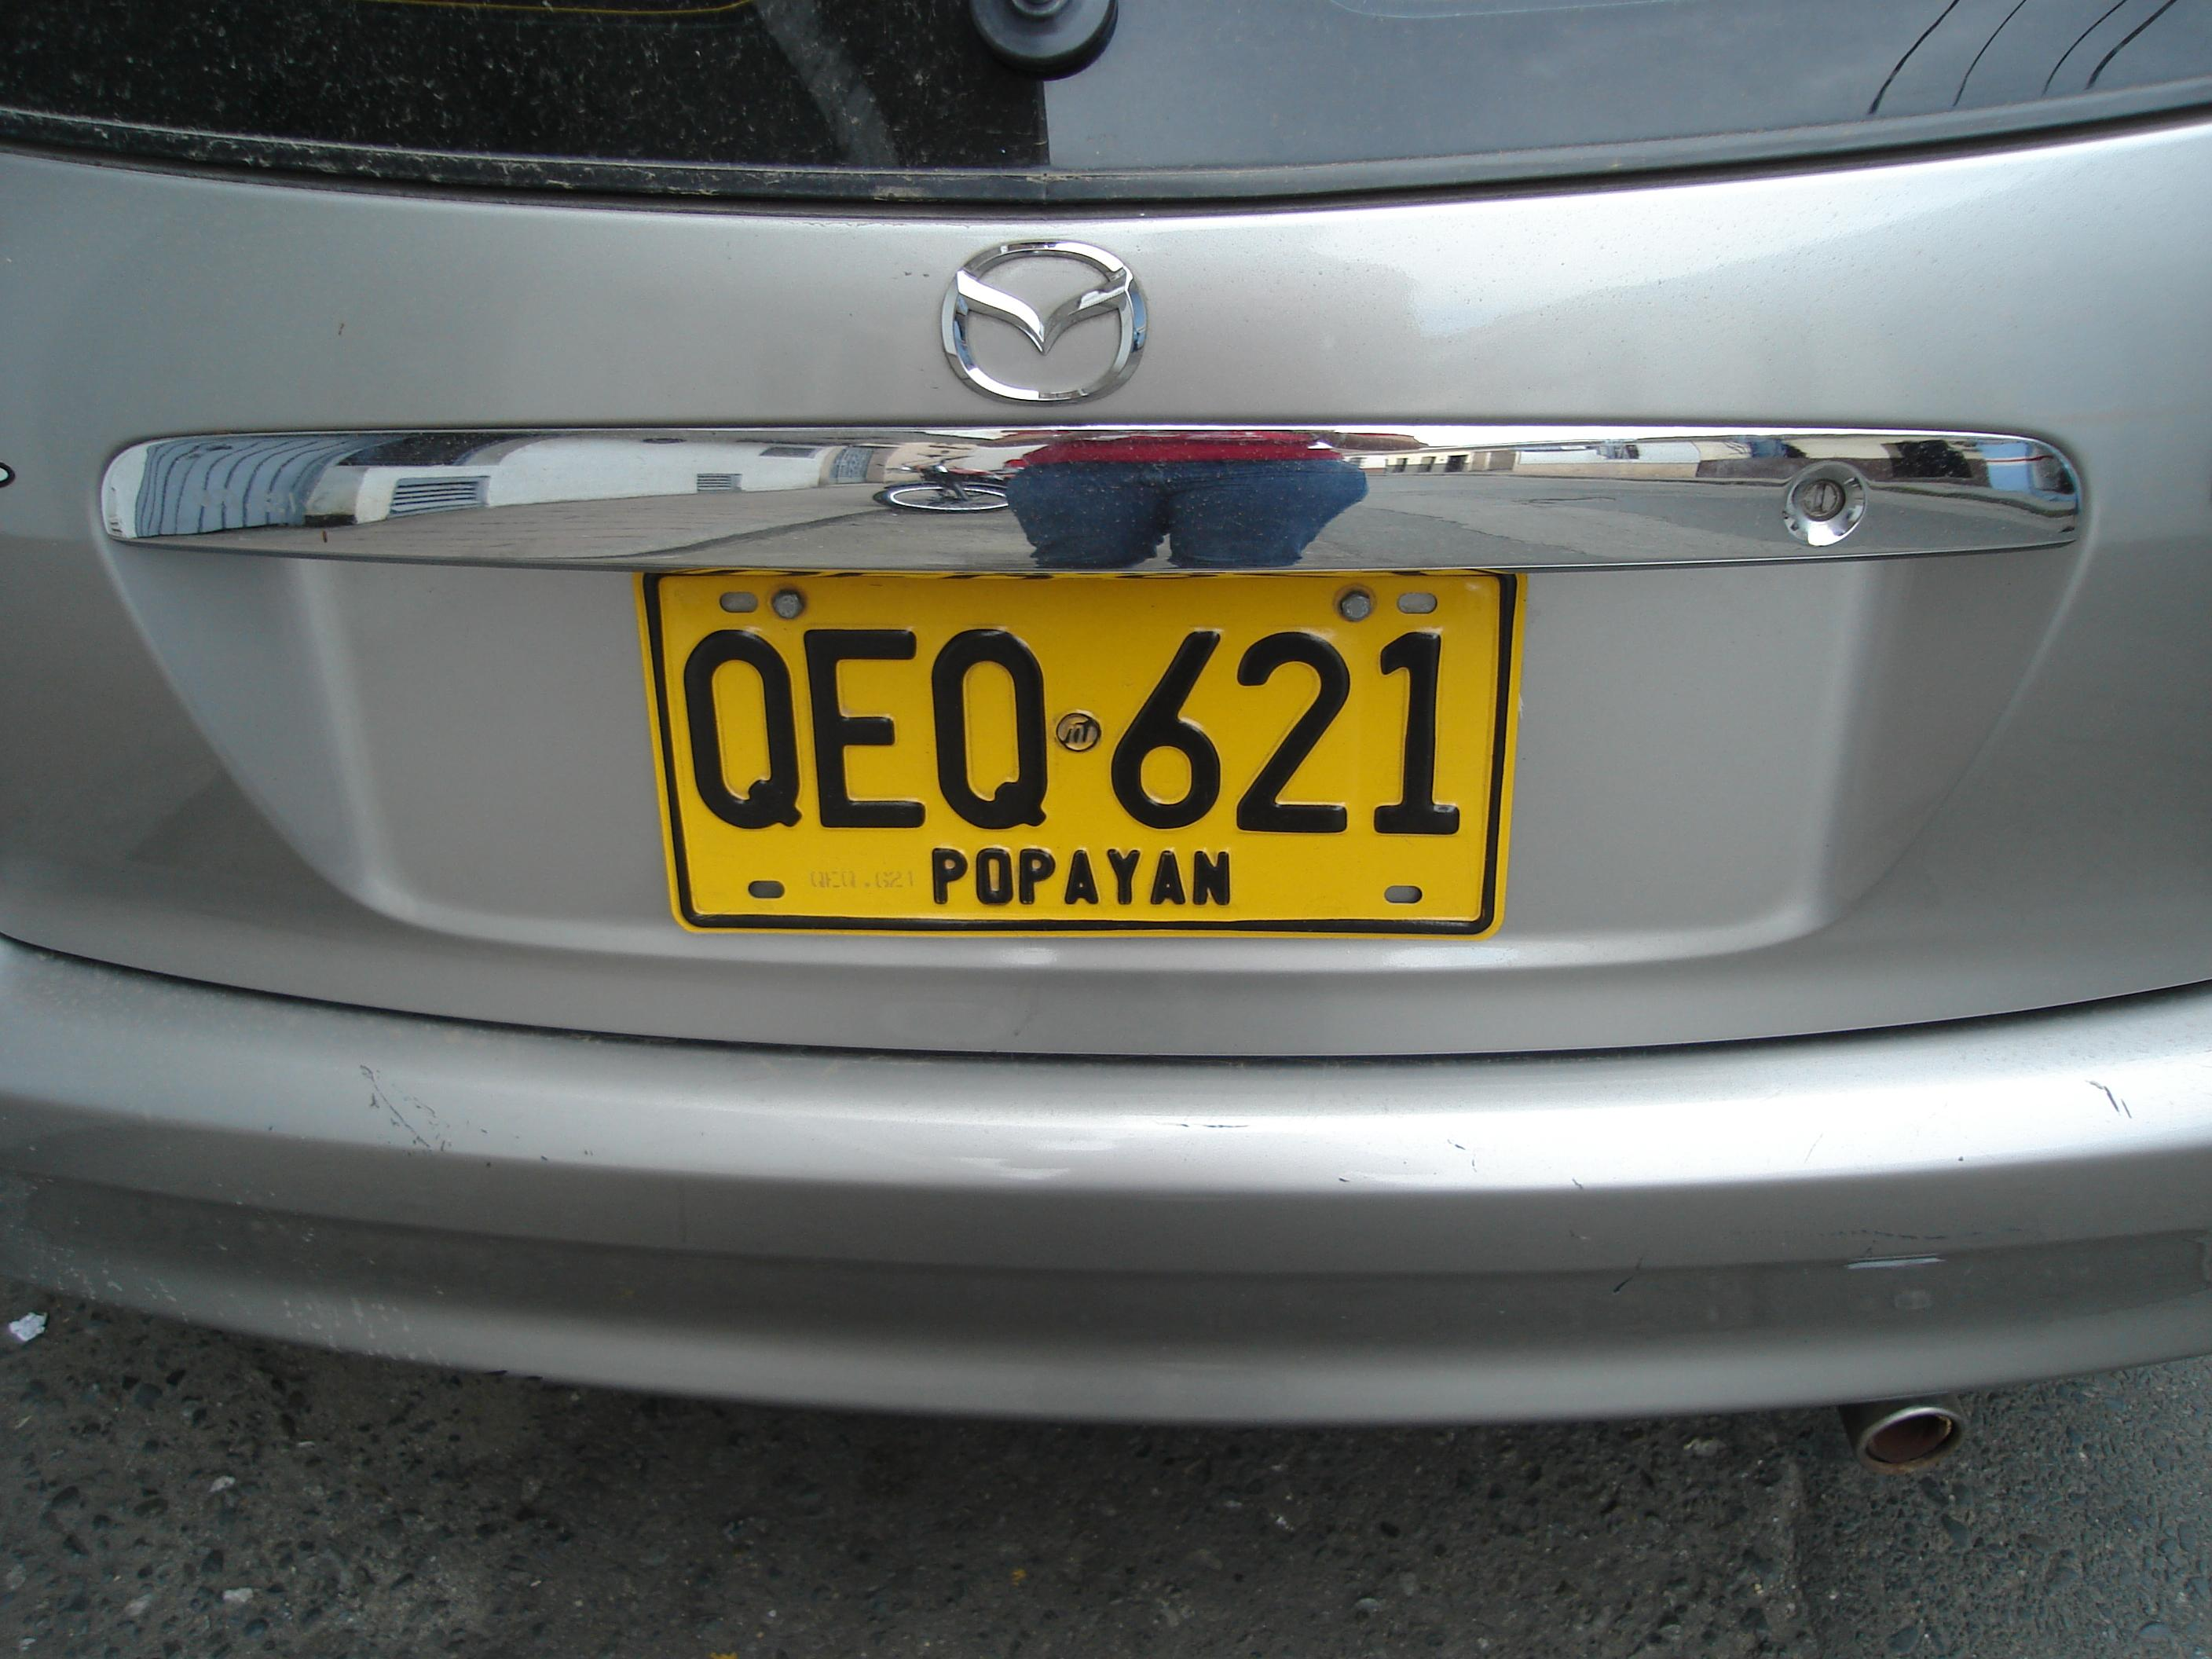placas: (613, 533, 1533, 949)
